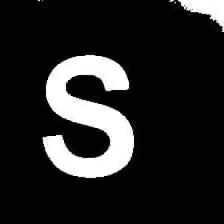LTR_S: (33, 44, 138, 180)
